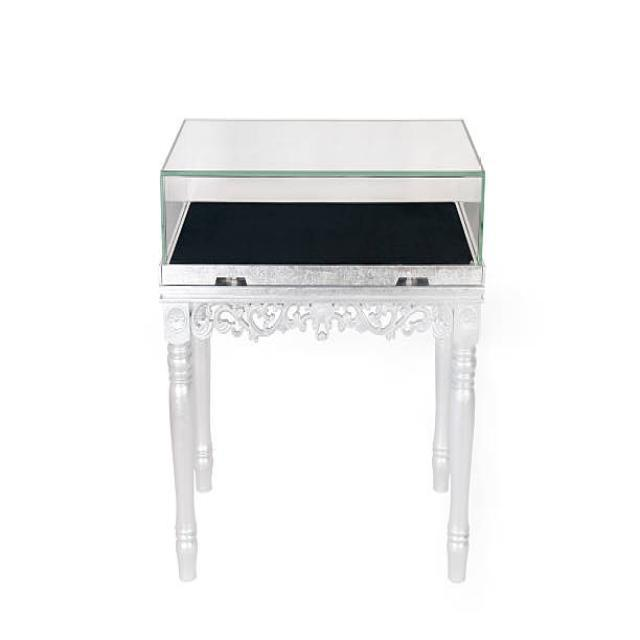table: (156, 117, 486, 584)
